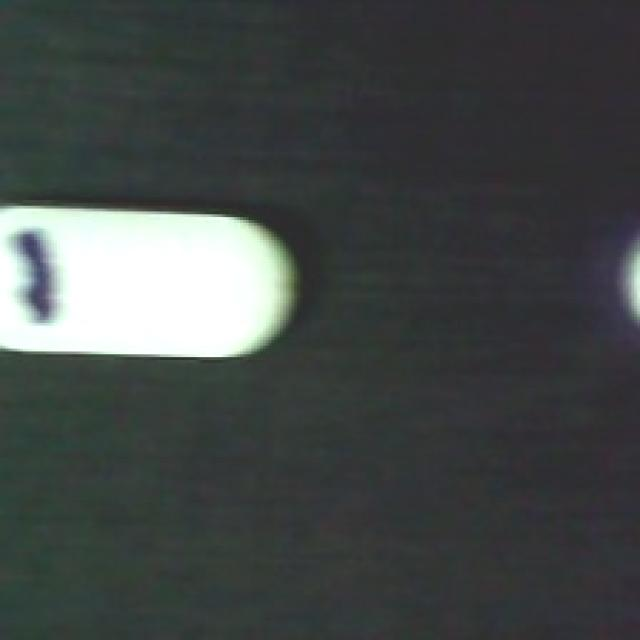defected: (0, 197, 306, 366)
